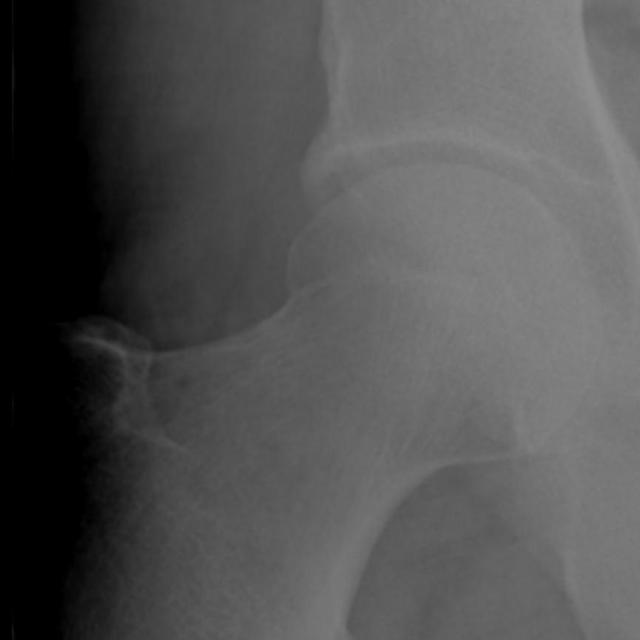Fitted_femural_head: (321, 163, 432, 321)
